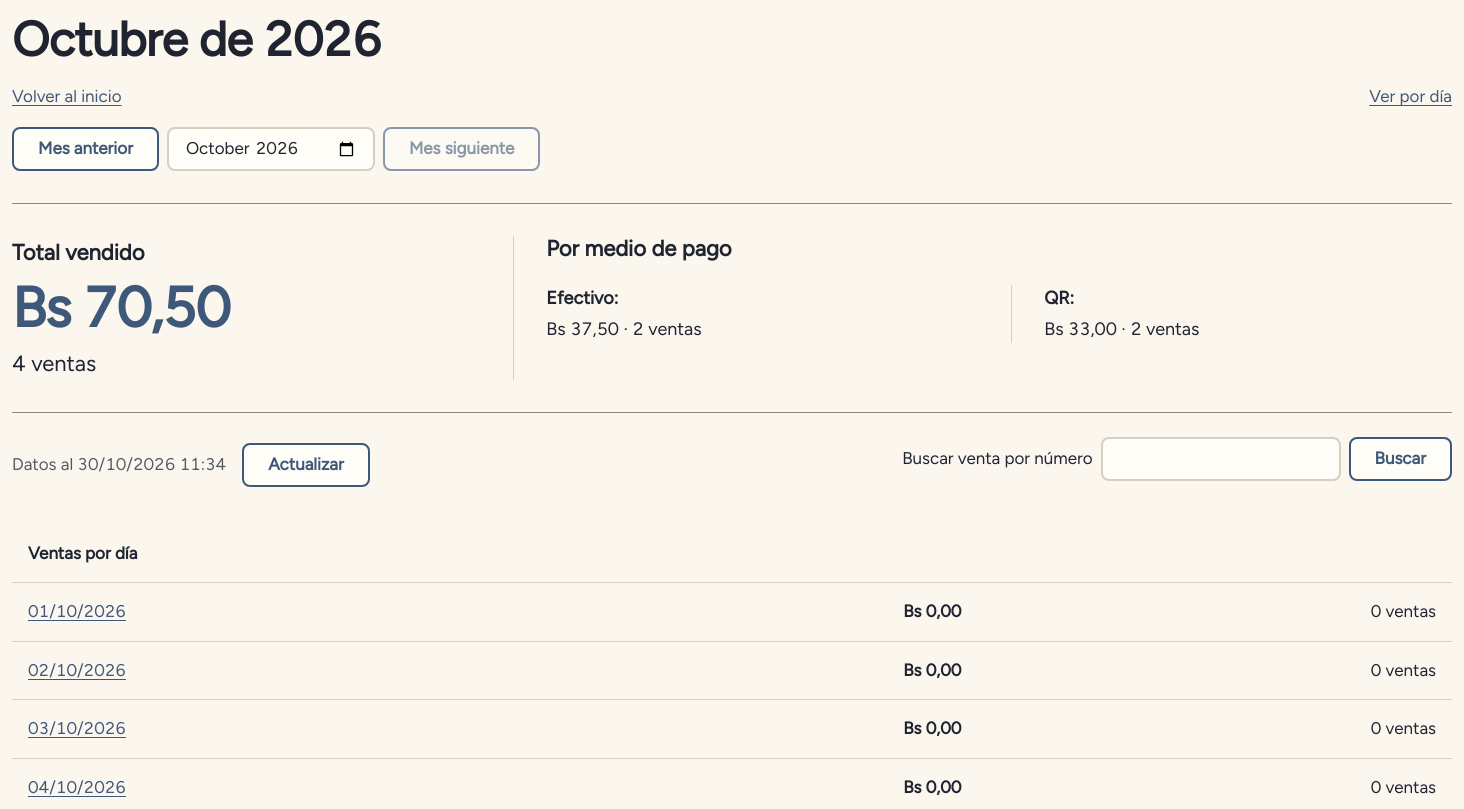
Scenario: pantalla mensual (T025, RF-5, RF-6, RF-9, RF-11 a RF-13, RNF-4) › conserva título, cifras y momento al fallar offline en otro mes
Expected: the heading "Octubre de 2026" is shown, [12,12,381,67]
Click the button "Mes anterior".
click(85, 149)  # box [12,127,159,171]
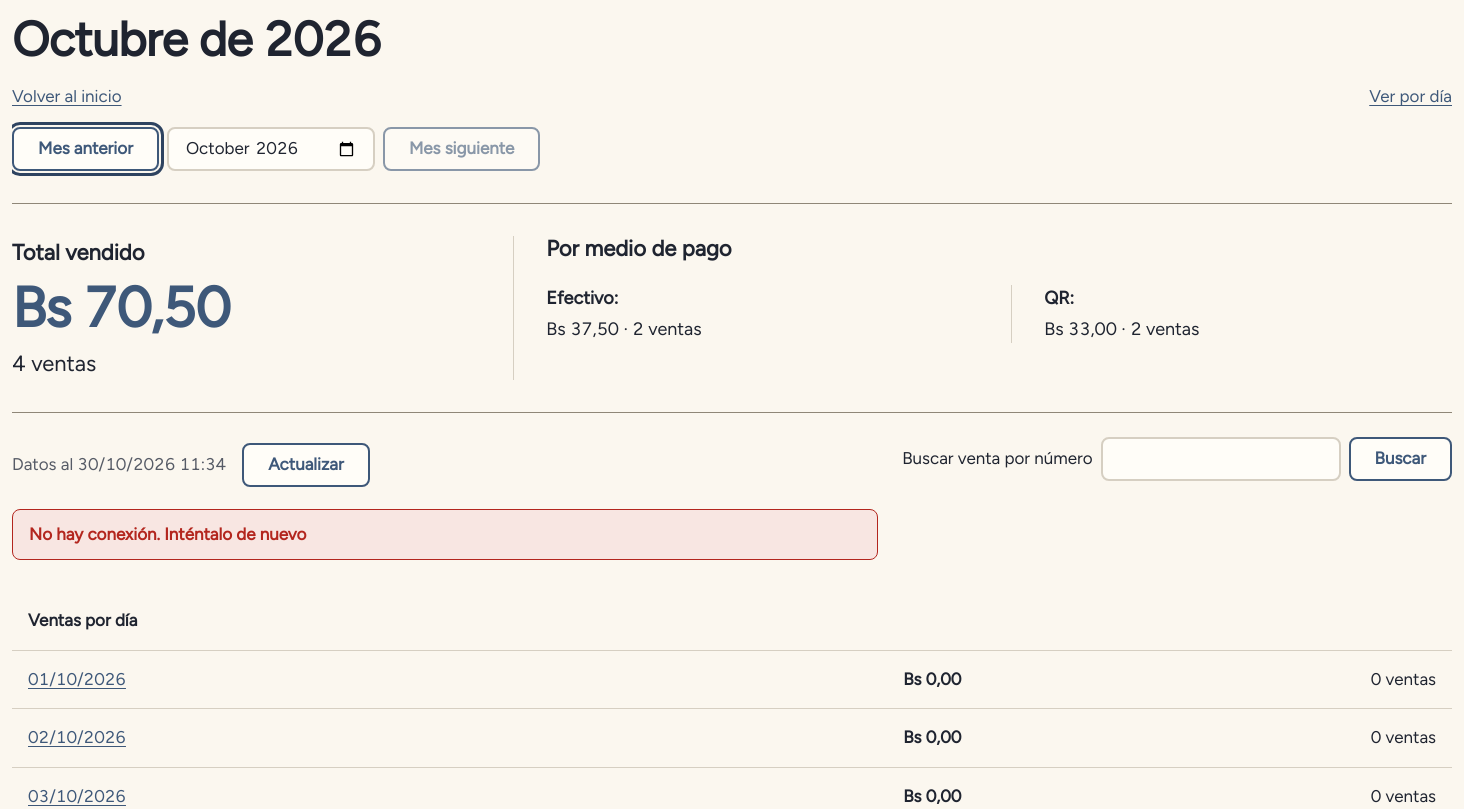
Expected: the heading "Octubre de 2026" is shown, [12,12,381,67]
Result: the message "No hay conexión. Inténtalo de nuevo" is shown at [12,509,878,560]
Click the button "Actualizar".
click(306, 465)  # box [242,443,370,487]
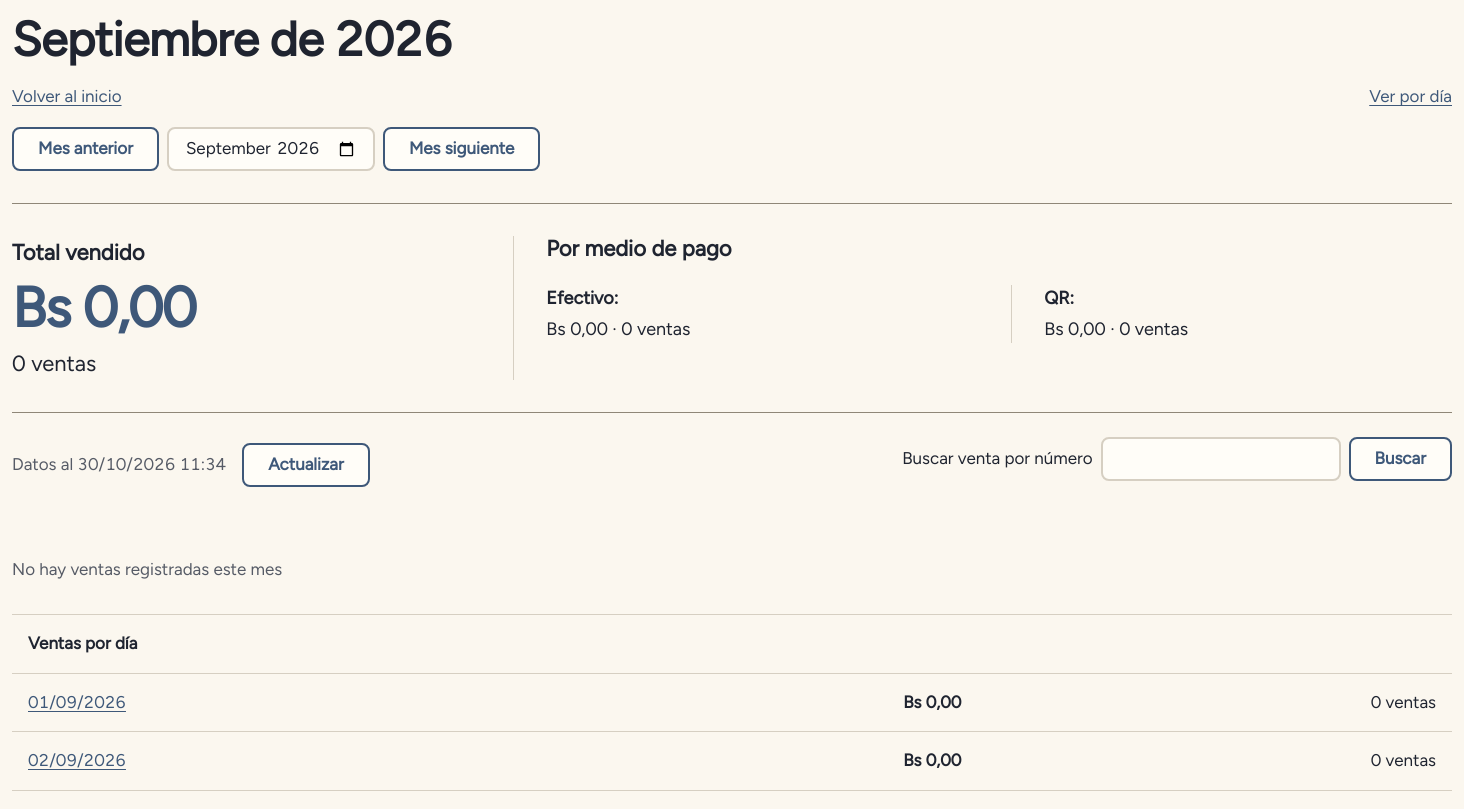
Result: the heading "Septiembre de 2026" is shown at [12,12,452,67]
